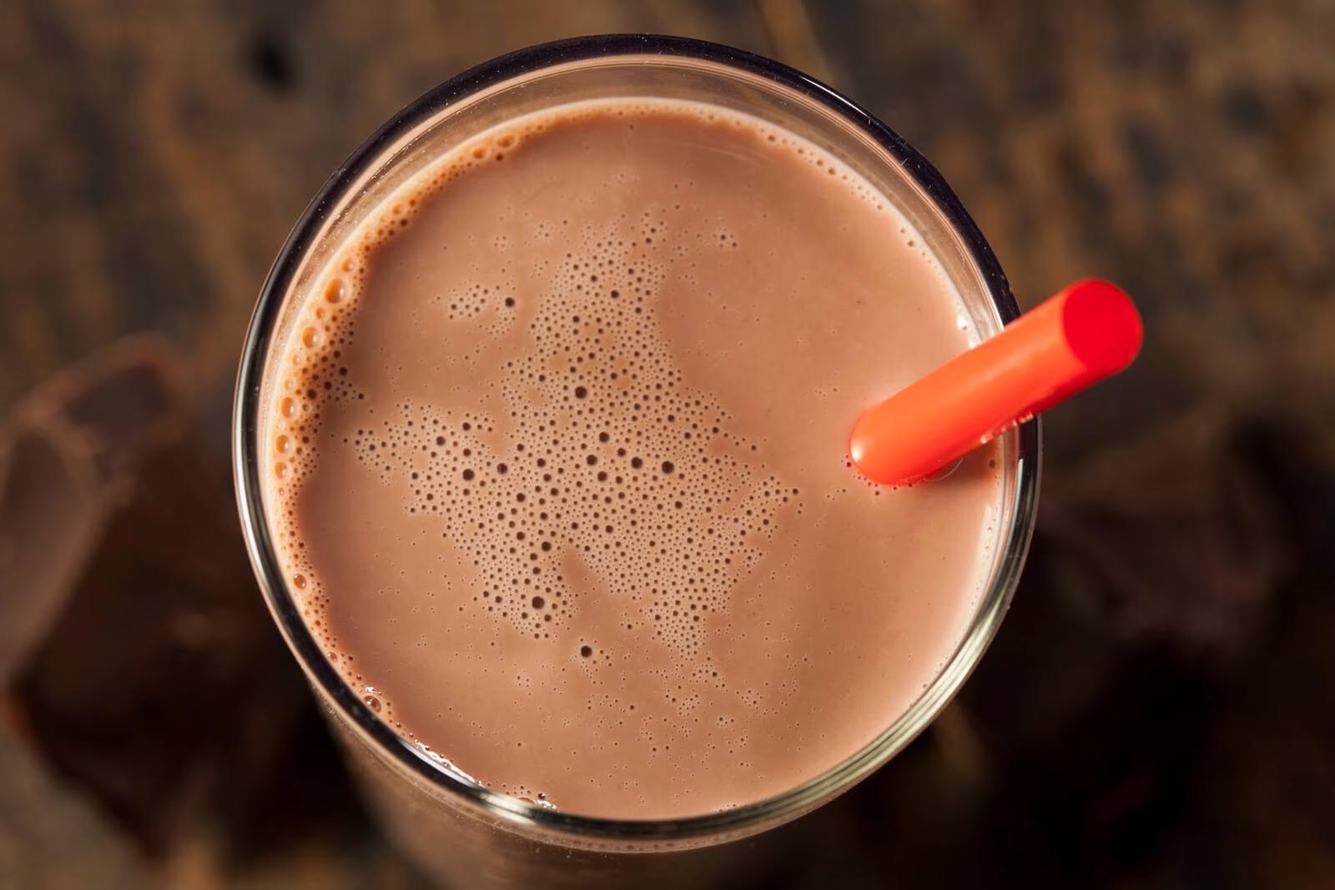produk_susu: (396, 115, 833, 760)
